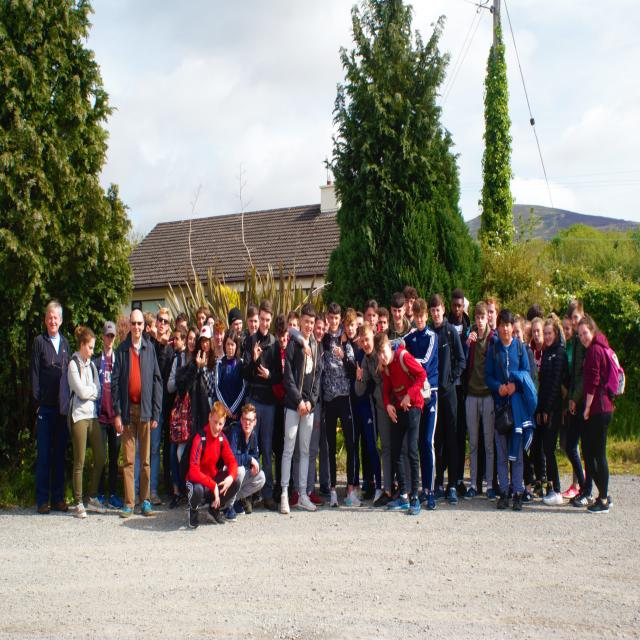body: (110, 306, 164, 520), (371, 330, 432, 516), (485, 307, 538, 512), (354, 320, 411, 508), (577, 311, 626, 515), (29, 298, 74, 516), (58, 325, 108, 519), (279, 302, 322, 514), (321, 302, 364, 508), (428, 292, 466, 506), (134, 306, 174, 508), (242, 297, 281, 504), (178, 398, 239, 530), (402, 297, 439, 512), (338, 305, 377, 503), (288, 312, 327, 508), (465, 299, 500, 502), (475, 414, 553, 502), (90, 320, 124, 509), (167, 325, 201, 512), (216, 402, 266, 524), (444, 289, 472, 498), (566, 299, 594, 507), (538, 317, 568, 508), (269, 313, 295, 505), (214, 328, 248, 428), (511, 301, 546, 390), (194, 325, 224, 406), (119, 506, 190, 536), (560, 429, 588, 500), (382, 292, 418, 344), (530, 316, 546, 382), (228, 304, 259, 335), (366, 298, 391, 332), (172, 311, 190, 350), (213, 316, 229, 358), (563, 313, 574, 370), (486, 294, 499, 332), (406, 282, 418, 320), (195, 306, 216, 324), (144, 309, 156, 340), (287, 312, 300, 332), (355, 310, 365, 329), (324, 314, 330, 332)
